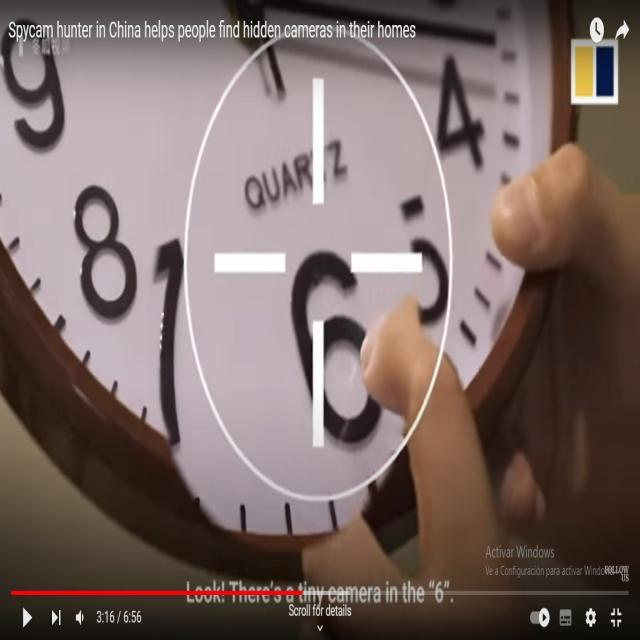hidden camera: (309, 262, 326, 286)
